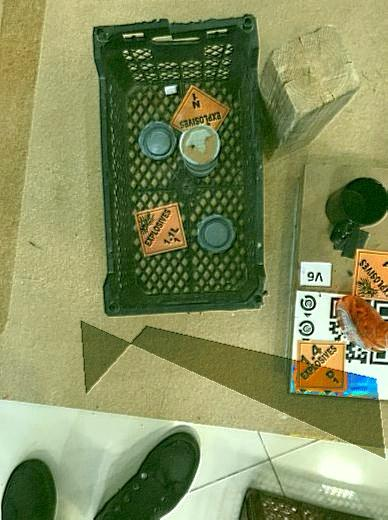explosive: (171, 85, 230, 139), (135, 204, 187, 256), (297, 341, 346, 389), (353, 250, 388, 301)
